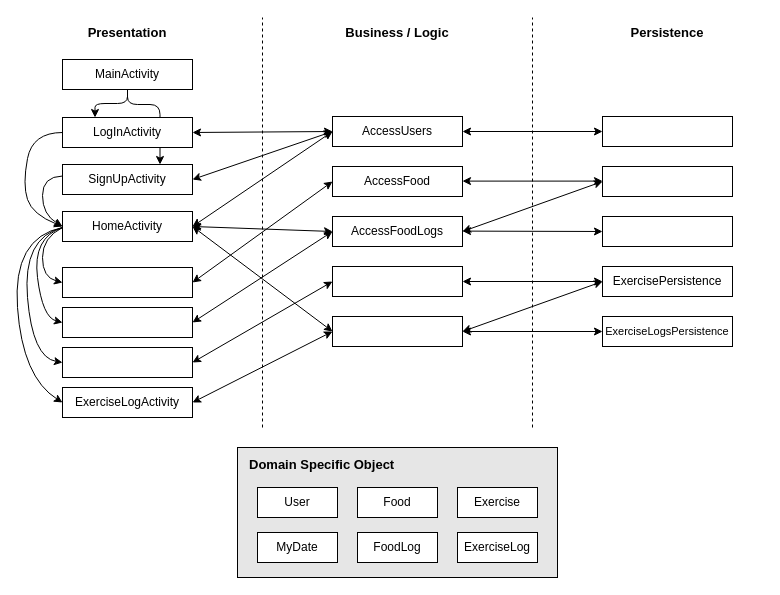
Image size: 780x595. Some labels were removed from this diagram. Each missing label, with the centre of its shape:
AccessExercise: the point at 397,281
AccessExerciseLogs: the point at 397,331
FoodLogActivity: the point at 127,322
FoodLogsPersistence: the point at 667,231
FoodPersistence: the point at 667,181
SearchExerciseActivity: the point at 127,362
SearchFoodActivity: the point at 127,282
UserPersistence: the point at 667,131
